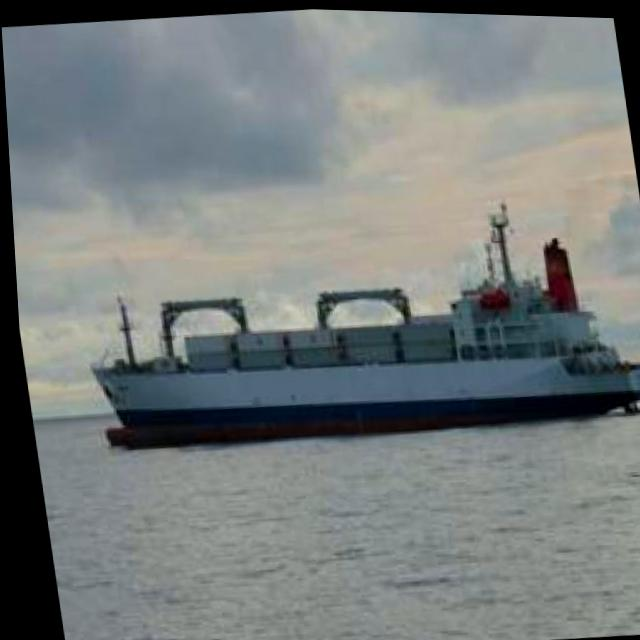ship2: (84, 198, 640, 450)
